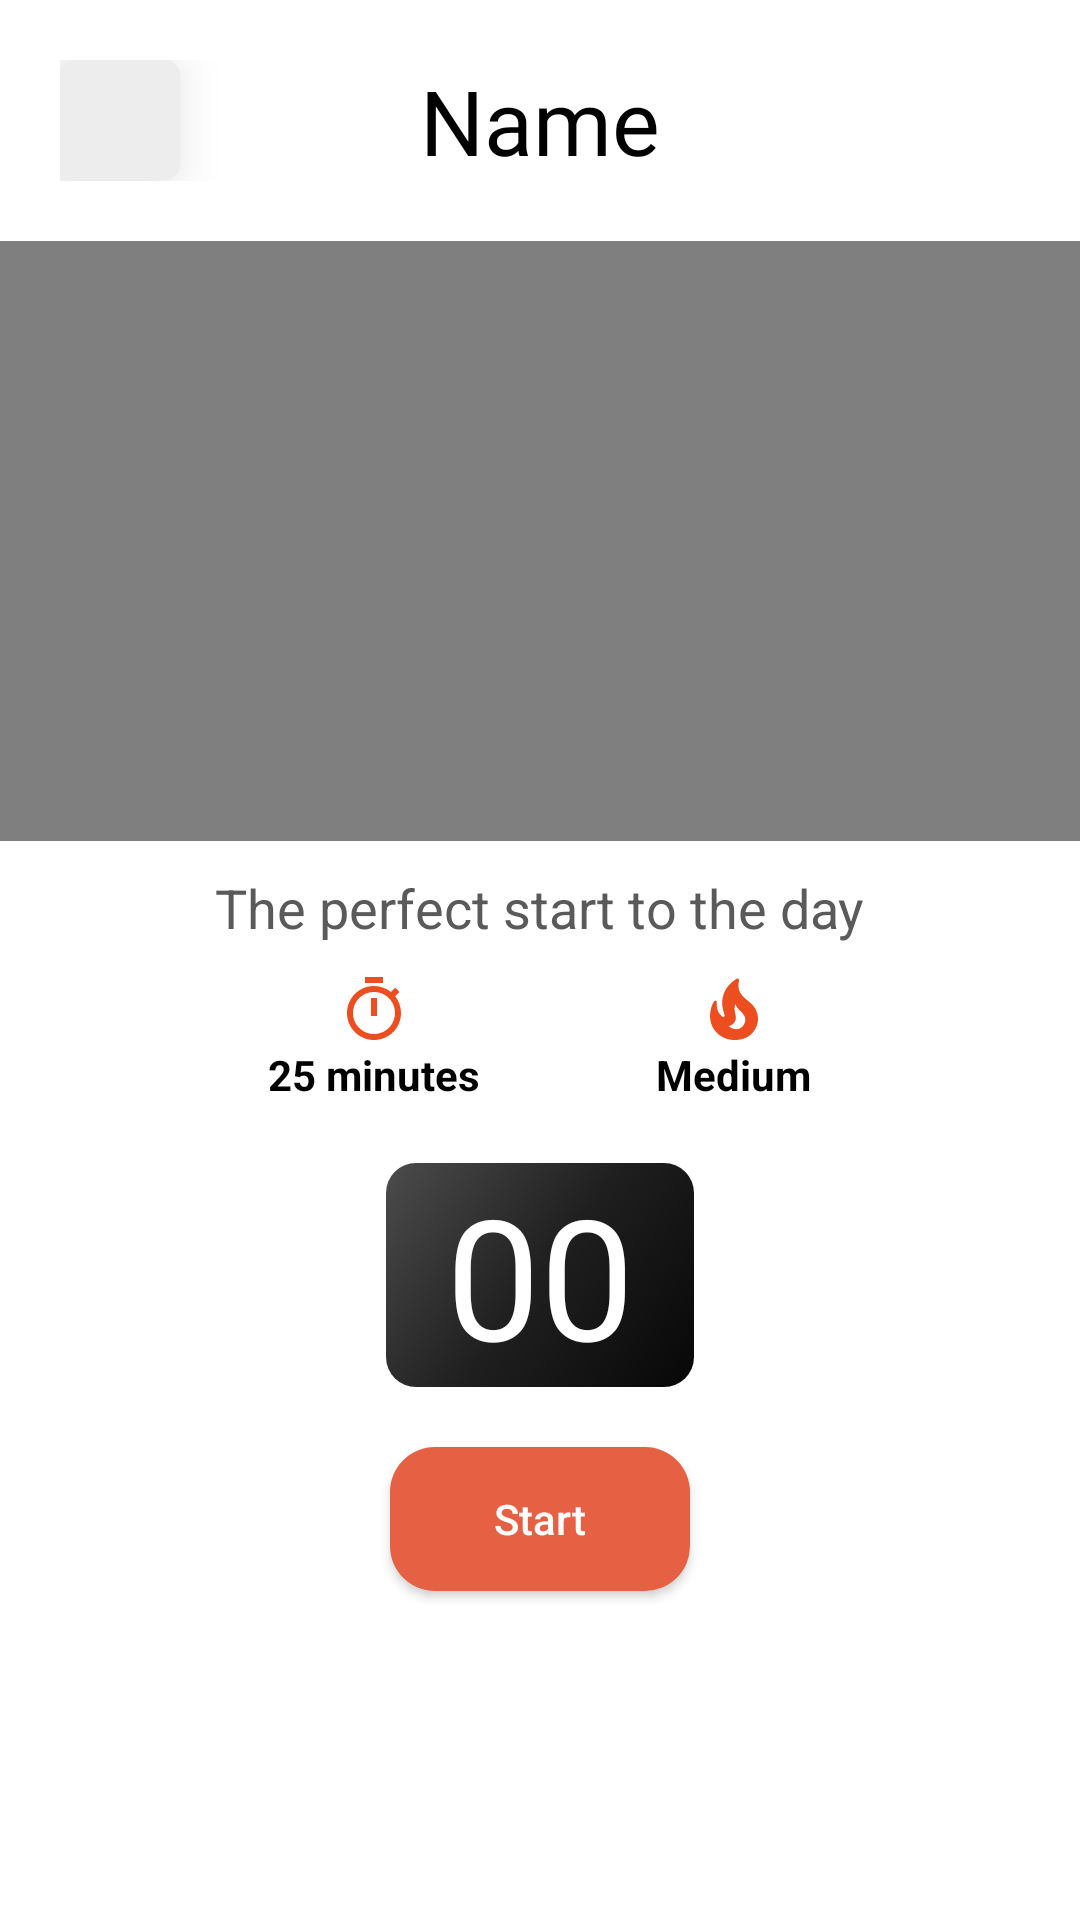

Icons on this 1080px x 1920px Android screen, each with its box as box(x1, y1, x2, y2):
local fire department: box(710, 978, 758, 1040)
timer: box(347, 977, 401, 1040)
